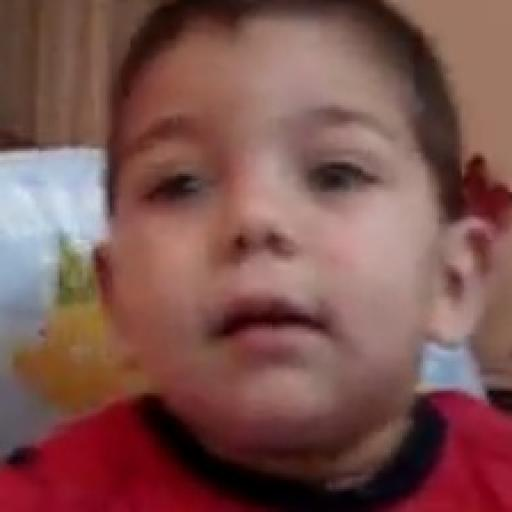Autism: (71, 115, 473, 507)
